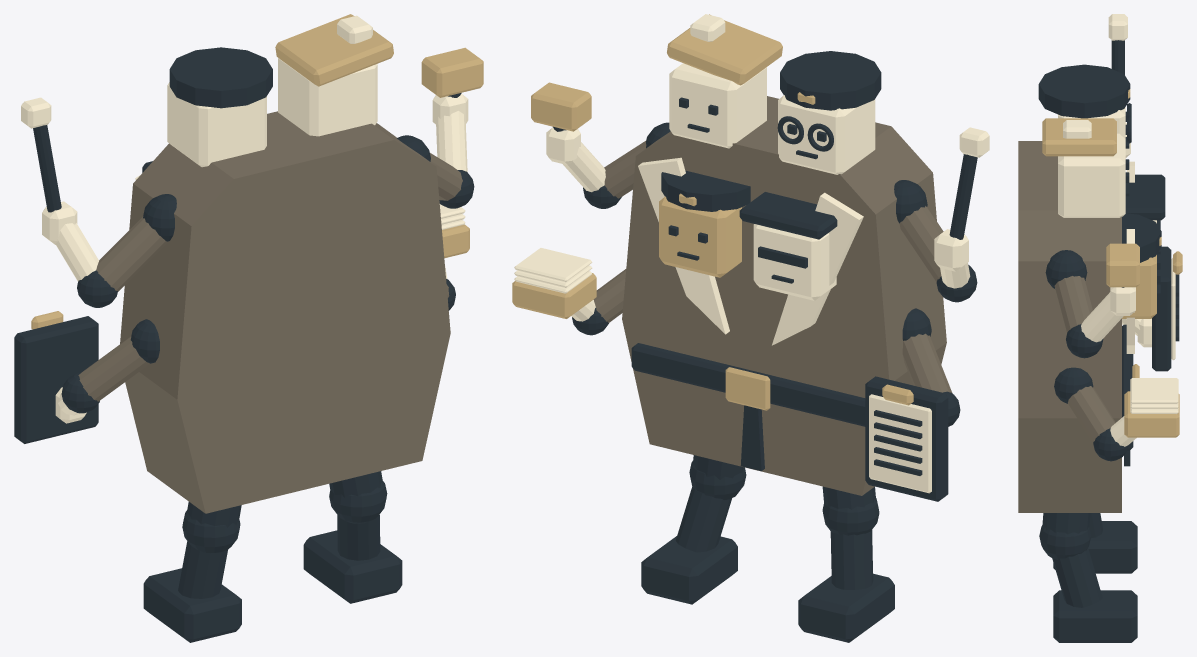
The picture shows the model from 3 angles, left to right: view 1: azimuth 30°, elevation 25°; view 2: azimuth 150°, elevation 25°; view 3: azimuth 270°, elevation 25°; orthographic projection. The views are drawn at different scales.
Visible parts, largest first — view 1: four_person_coat, duty_roster_board, upper_right_face, upper_left_face, upper_left_cap, upper_right_file_cap, left_shoe, right_shoe, upper_left_arm_upper, upper_right_stamp, lower_left_arm_upper, left_shin (+18 smaller); view 2: four_person_coat, upper_right_face, shared_belt, upper_left_face, lower_right_face, upper_left_cap, right_shoe, left_shoe, upper_right_file_cap, lower_left_face, duty_roster_page, duty_roster_board (+28 smaller); view 3: four_person_coat, upper_right_face, upper_left_cap, right_shoe, upper_right_file_cap, left_shoe, duty_roster_board, right_shin, lower_left_visor_cap, lower_right_inbox, upper_right_stamp, lower_right_arm_upper (+22 smaller).
Part boxes in pixels (left/top/right/bottom): four_person_coat: left=120, top=111, right=450, bottom=513; duty_roster_board: left=14, top=316, right=98, bottom=443; upper_right_face: left=278, top=58, right=377, bottom=136; upper_left_face: left=167, top=82, right=266, bottom=167; upper_left_cap: left=169, top=47, right=272, bottom=108; upper_right_file_cap: left=275, top=14, right=393, bottom=86; left_shoe: left=143, top=568, right=241, bottom=642; right_shoe: left=303, top=530, right=402, bottom=603; upper_left_arm_upper: left=96, top=216, right=166, bottom=291; upper_right_stamp: left=421, top=47, right=483, bottom=97; lower_left_arm_upper: left=78, top=336, right=149, bottom=401; left_shin: left=178, top=541, right=227, bottom=598; four_person_coat: left=622, top=96, right=946, bottom=495; upper_right_face: left=669, top=63, right=766, bottom=148; shared_belt: left=631, top=343, right=865, bottom=426; upper_left_face: left=778, top=95, right=875, bottom=174; lower_right_face: left=659, top=196, right=741, bottom=277; upper_left_cap: left=780, top=51, right=881, bottom=110; right_shoe: left=641, top=536, right=737, bottom=604; left_shoe: left=798, top=573, right=894, bottom=642; upper_right_file_cap: left=667, top=14, right=782, bottom=85; lower_left_face: left=753, top=224, right=836, bottom=300; duty_roster_page: left=869, top=394, right=931, bottom=493; duty_roster_board: left=865, top=376, right=948, bottom=501; four_person_coat: left=1018, top=141, right=1121, bottom=512; upper_right_face: left=1058, top=133, right=1125, bottom=217; upper_left_cap: left=1038, top=64, right=1130, bottom=118; right_shoe: left=1053, top=590, right=1137, bottom=642; upper_right_file_cap: left=1042, top=118, right=1116, bottom=156; left_shoe: left=1053, top=521, right=1137, bottom=573; duty_roster_board: left=1152, top=246, right=1171, bottom=371; right_shin: left=1052, top=548, right=1102, bottom=607; lower_left_visor_cap: left=1125, top=174, right=1165, bottom=220; lower_right_inbox: left=1124, top=391, right=1179, bottom=437; upper_right_stamp: left=1106, top=243, right=1139, bottom=287; lower_right_arm_upper: left=1068, top=386, right=1115, bottom=442.
Bounding box in the file's own units: 1.93 × 2.31 × 0.682.
